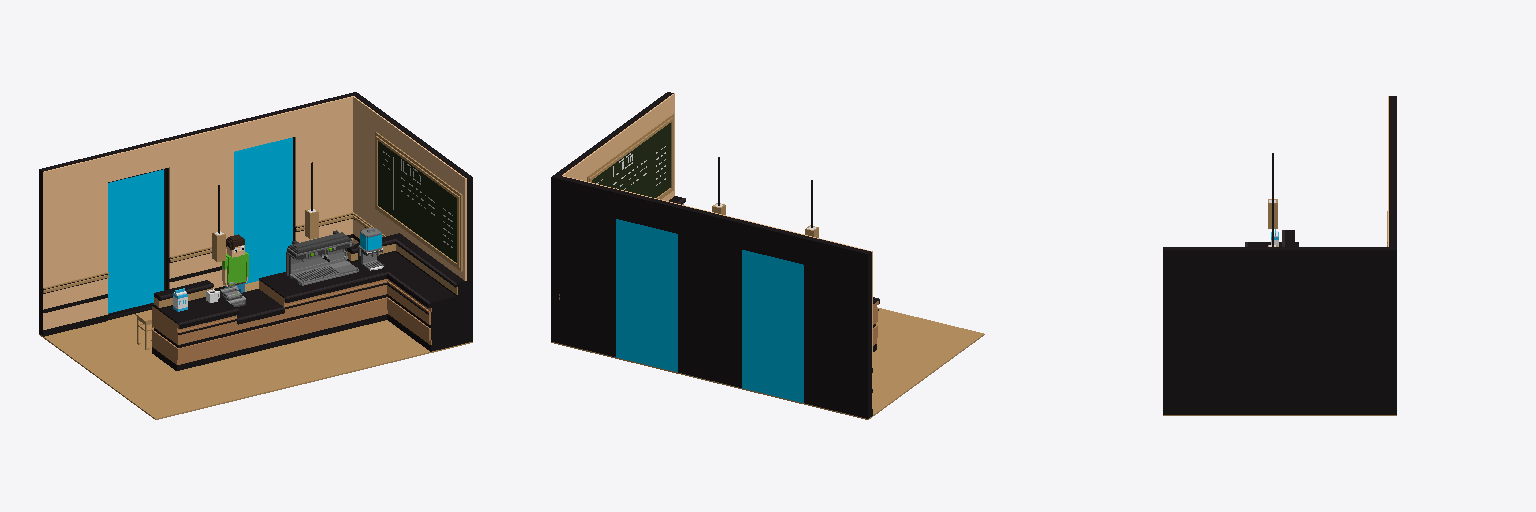
The picture shows the model from 3 angles: view 1: azimuth 30°, elevation 25°; view 2: azimuth 150°, elevation 25°; view 3: azimuth 270°, elevation 25°; orthographic projection.
Parts seen in each view (by area): view 1: object 1; view 2: object 1; view 3: object 1.
Boxes of the visible parts, <box> form: object 1: <box>39,92,472,419</box>; object 1: <box>551,92,984,419</box>; object 1: <box>1163,96,1396,415</box>.
Size of the model in its own units: 25.6 by 12.8 by 16.3.
Materials: 1 (1 with a texture image).